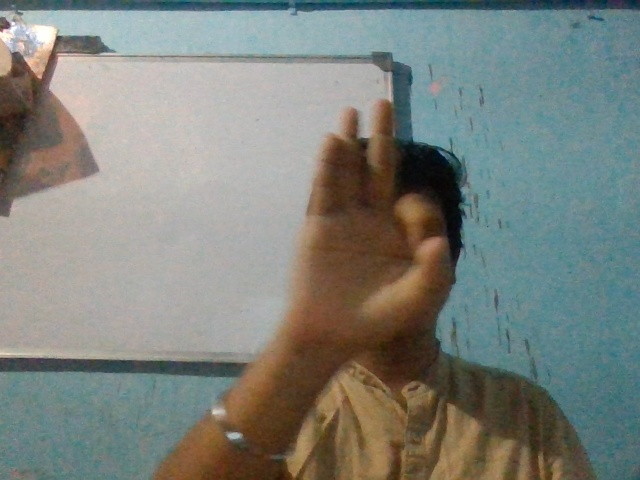Chin: (286, 91, 462, 354)
